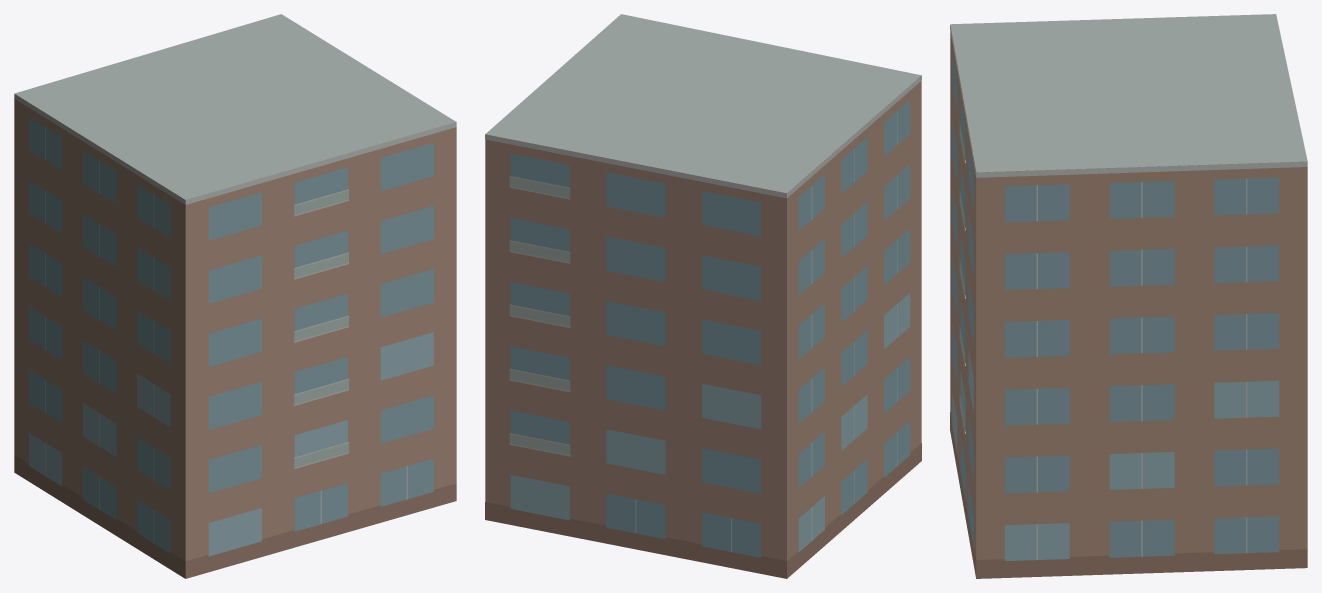
The model's file is survey-upis-32743027.glb.
3 renders of one model, left to right at view 1: azimuth 30°, elevation 25°; view 2: azimuth 150°, elevation 25°; view 3: azimuth 270°, elevation 25°, orthographic. The views are drawn at different scales.
Visible parts, largest first — view 1: survey-upis-32743027.tmp; view 2: survey-upis-32743027.tmp; view 3: survey-upis-32743027.tmp.
Part boxes in pixels (<box>): survey-upis-32743027.tmp: <box>14,14,456,578</box>; survey-upis-32743027.tmp: <box>485,14,921,578</box>; survey-upis-32743027.tmp: <box>950,14,1307,578</box>.
Size of the model in its own units: 15.35 by 18.35 by 14.64.
